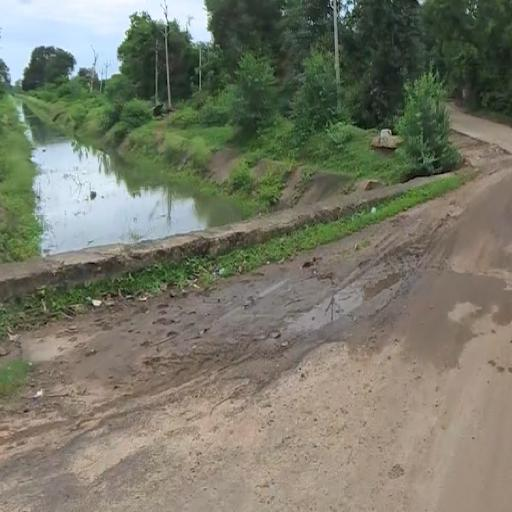drainage_issue: (16, 150, 480, 321)
ravelling: (170, 236, 449, 386)
